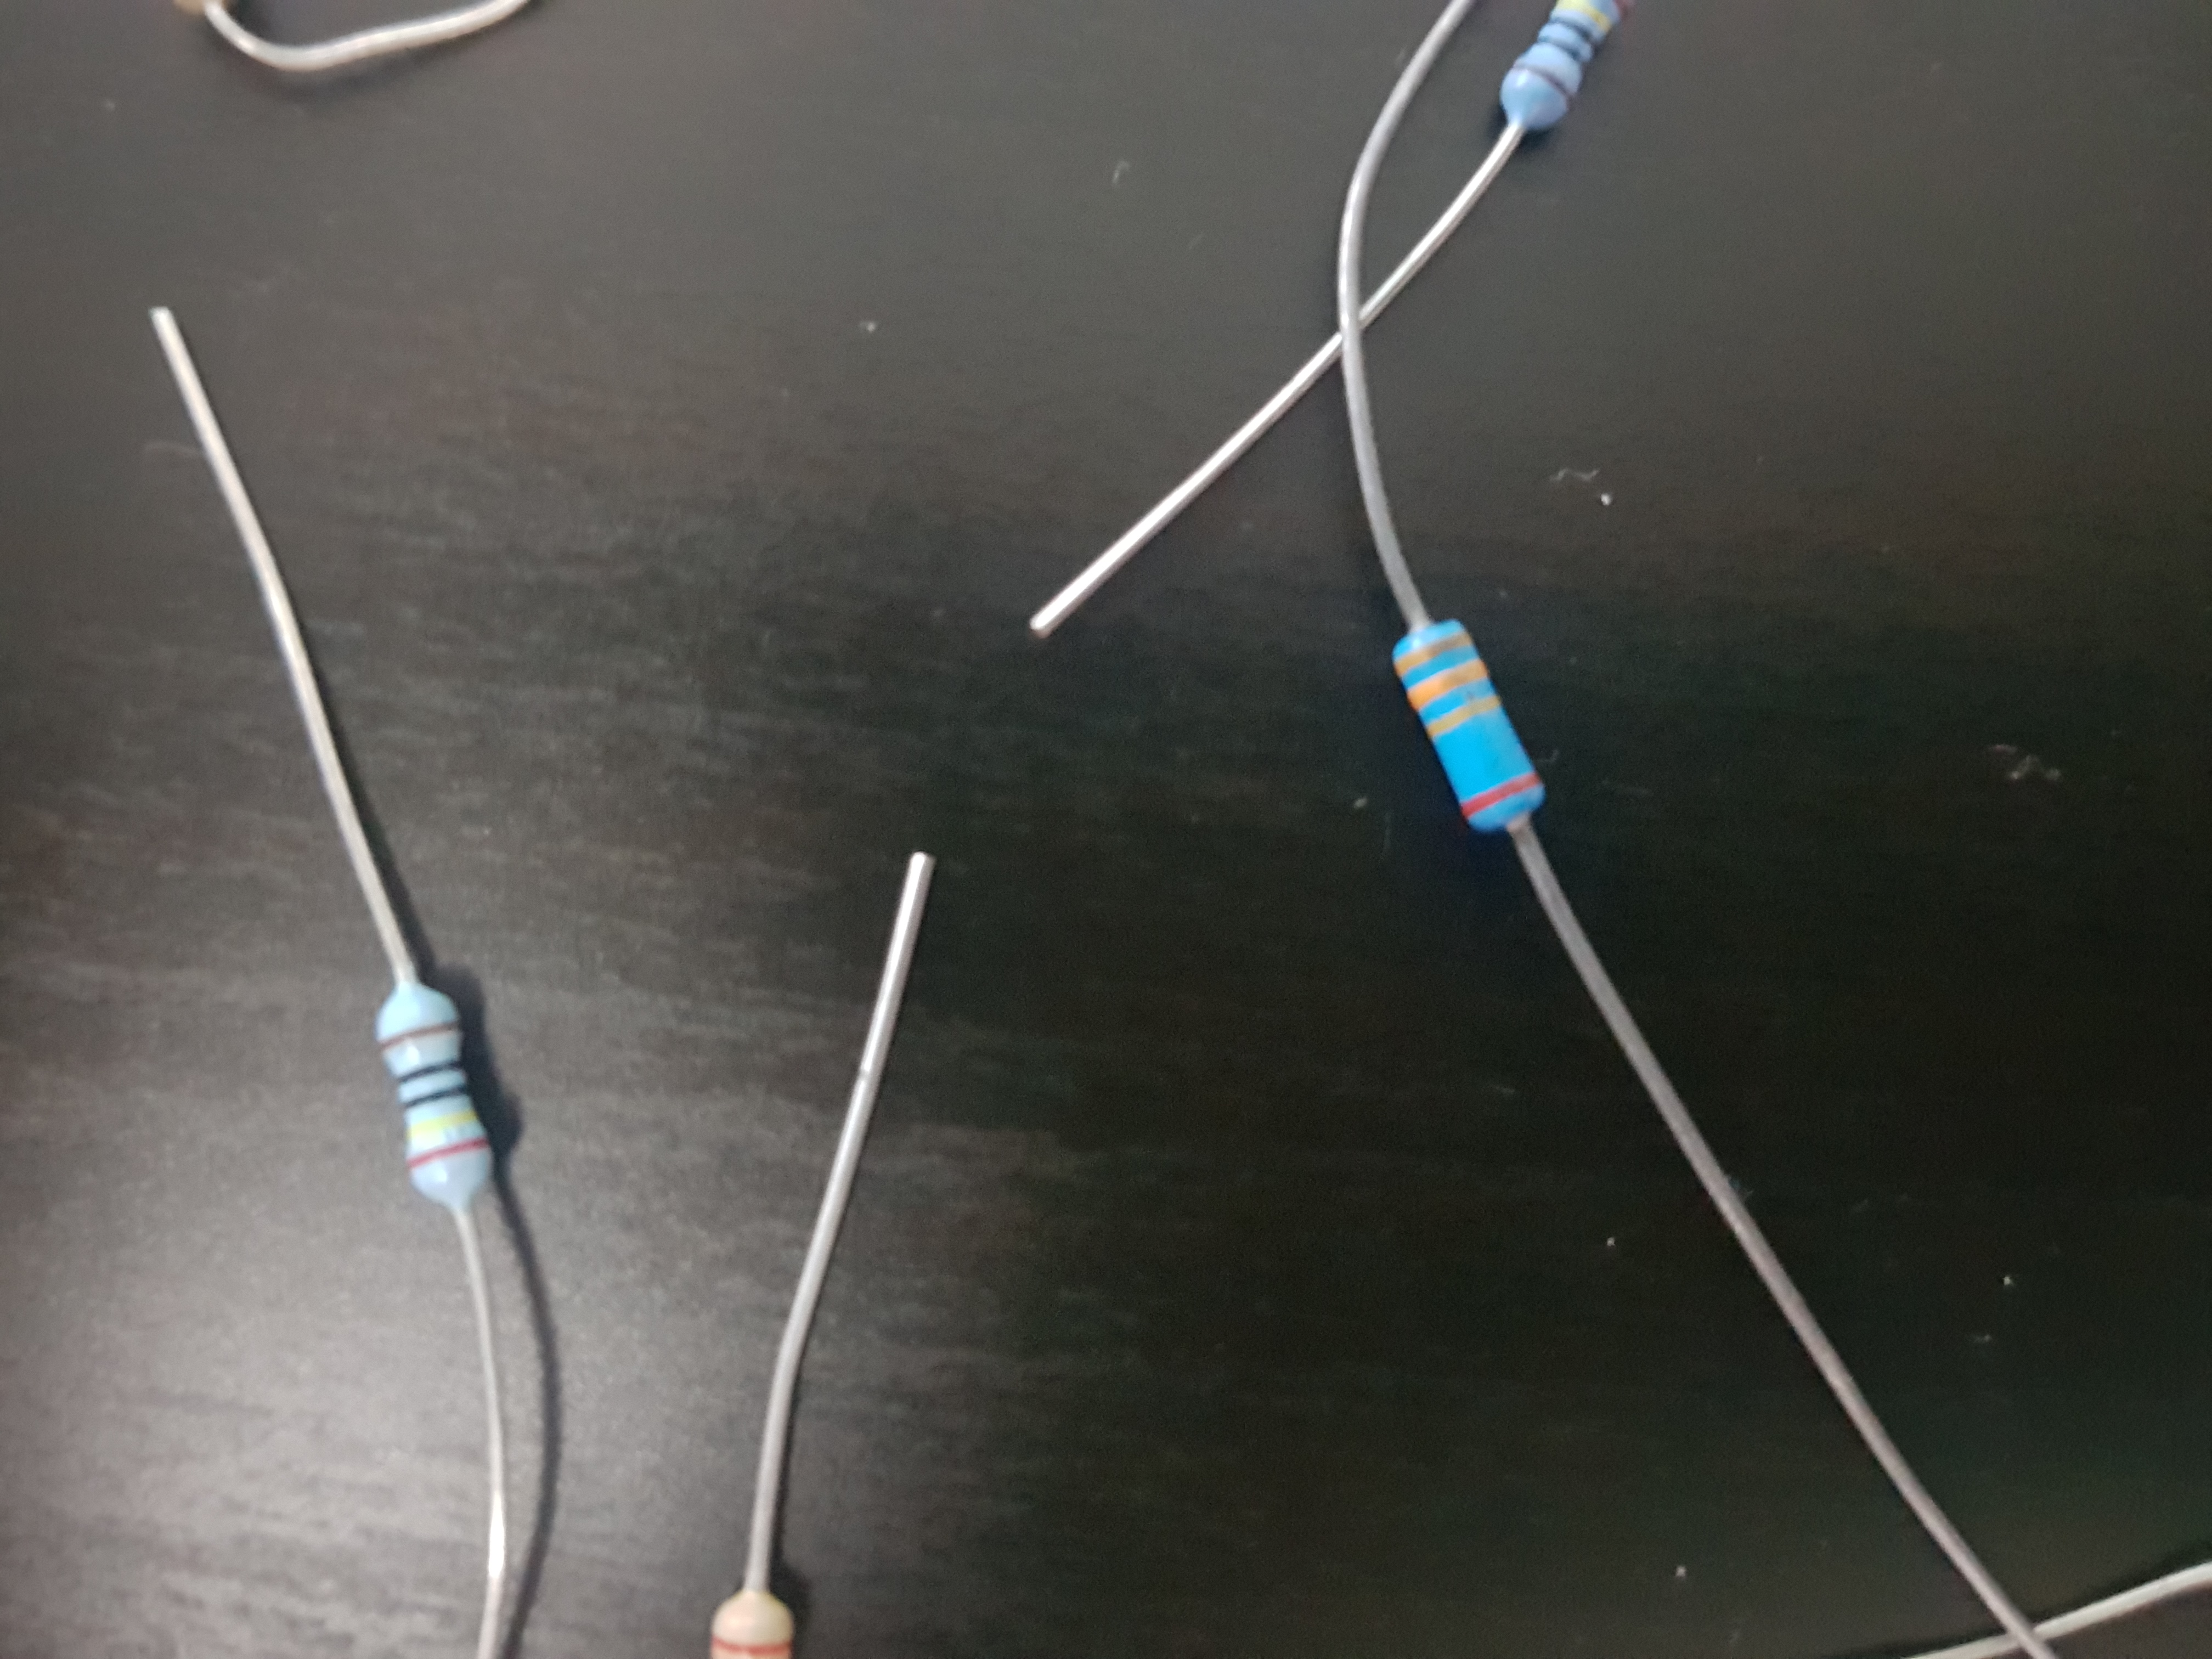resistor: (1259, 558, 1602, 951), (221, 911, 575, 1248), (1479, 0, 1724, 162), (643, 1497, 867, 1659)
